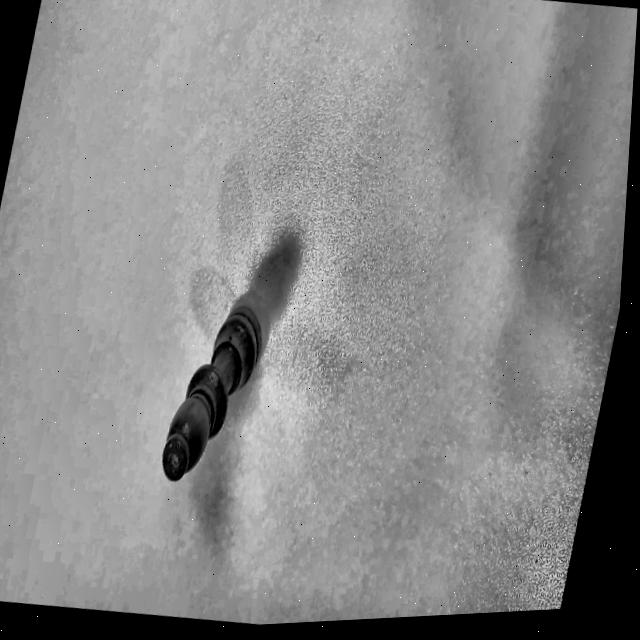black-bishop: (153, 289, 276, 495)
